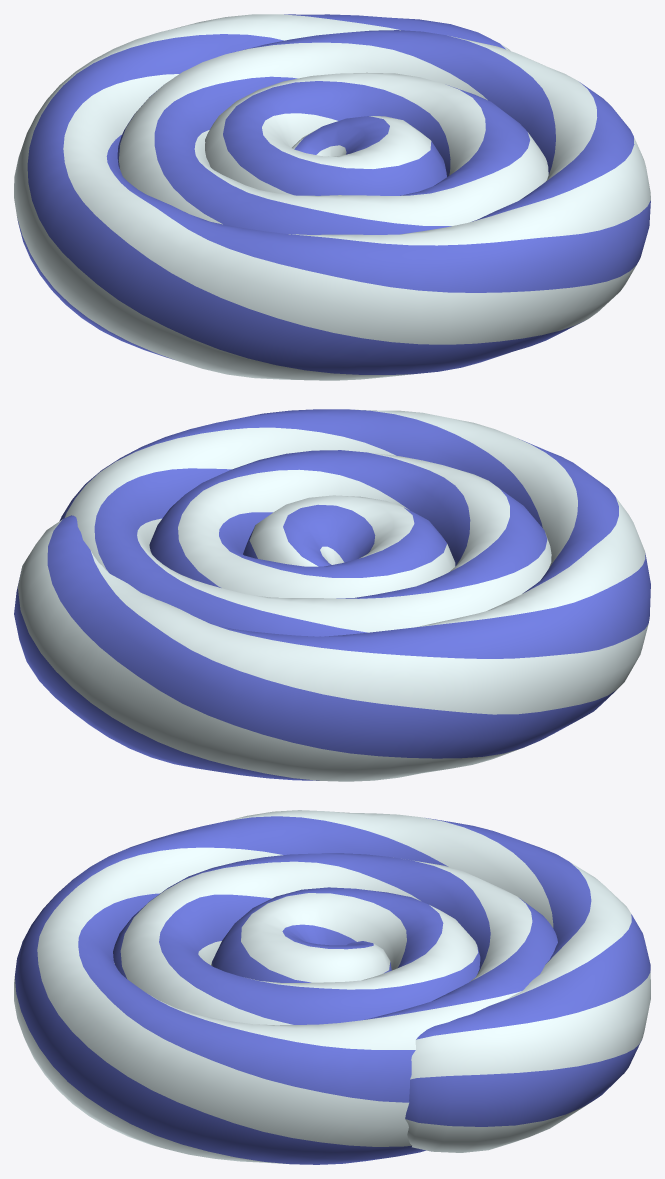
Rendered from Swirly_01.fbx.
The picture shows the model from 3 angles, top to bottom: view 1: azimuth 30°, elevation 25°; view 2: azimuth 150°, elevation 25°; view 3: azimuth 270°, elevation 25°; orthographic projection. The views are drawn at different scales.
Parts seen in each view (by area): view 1: Swirly_01_LOD0; view 2: Swirly_01_LOD0; view 3: Swirly_01_LOD0.
Boxes of the visible parts, left/top/right/bottom form: Swirly_01_LOD0: left=14, top=14, right=650, bottom=380; Swirly_01_LOD0: left=14, top=409, right=650, bottom=781; Swirly_01_LOD0: left=14, top=810, right=650, bottom=1164.
Size of what is drawn, in the model's own units: 511 by 130 by 532.
